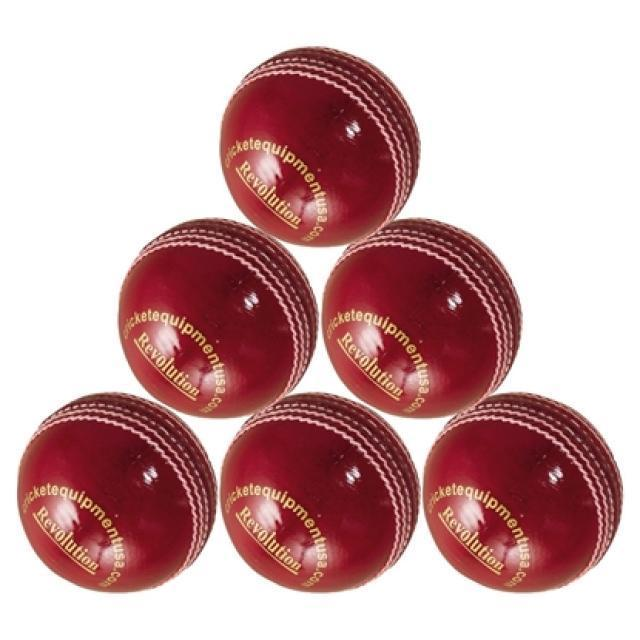cricket ball: (218, 44, 422, 247), (117, 217, 321, 419), (219, 393, 422, 595), (320, 218, 523, 419), (16, 393, 218, 594), (422, 392, 624, 593)
